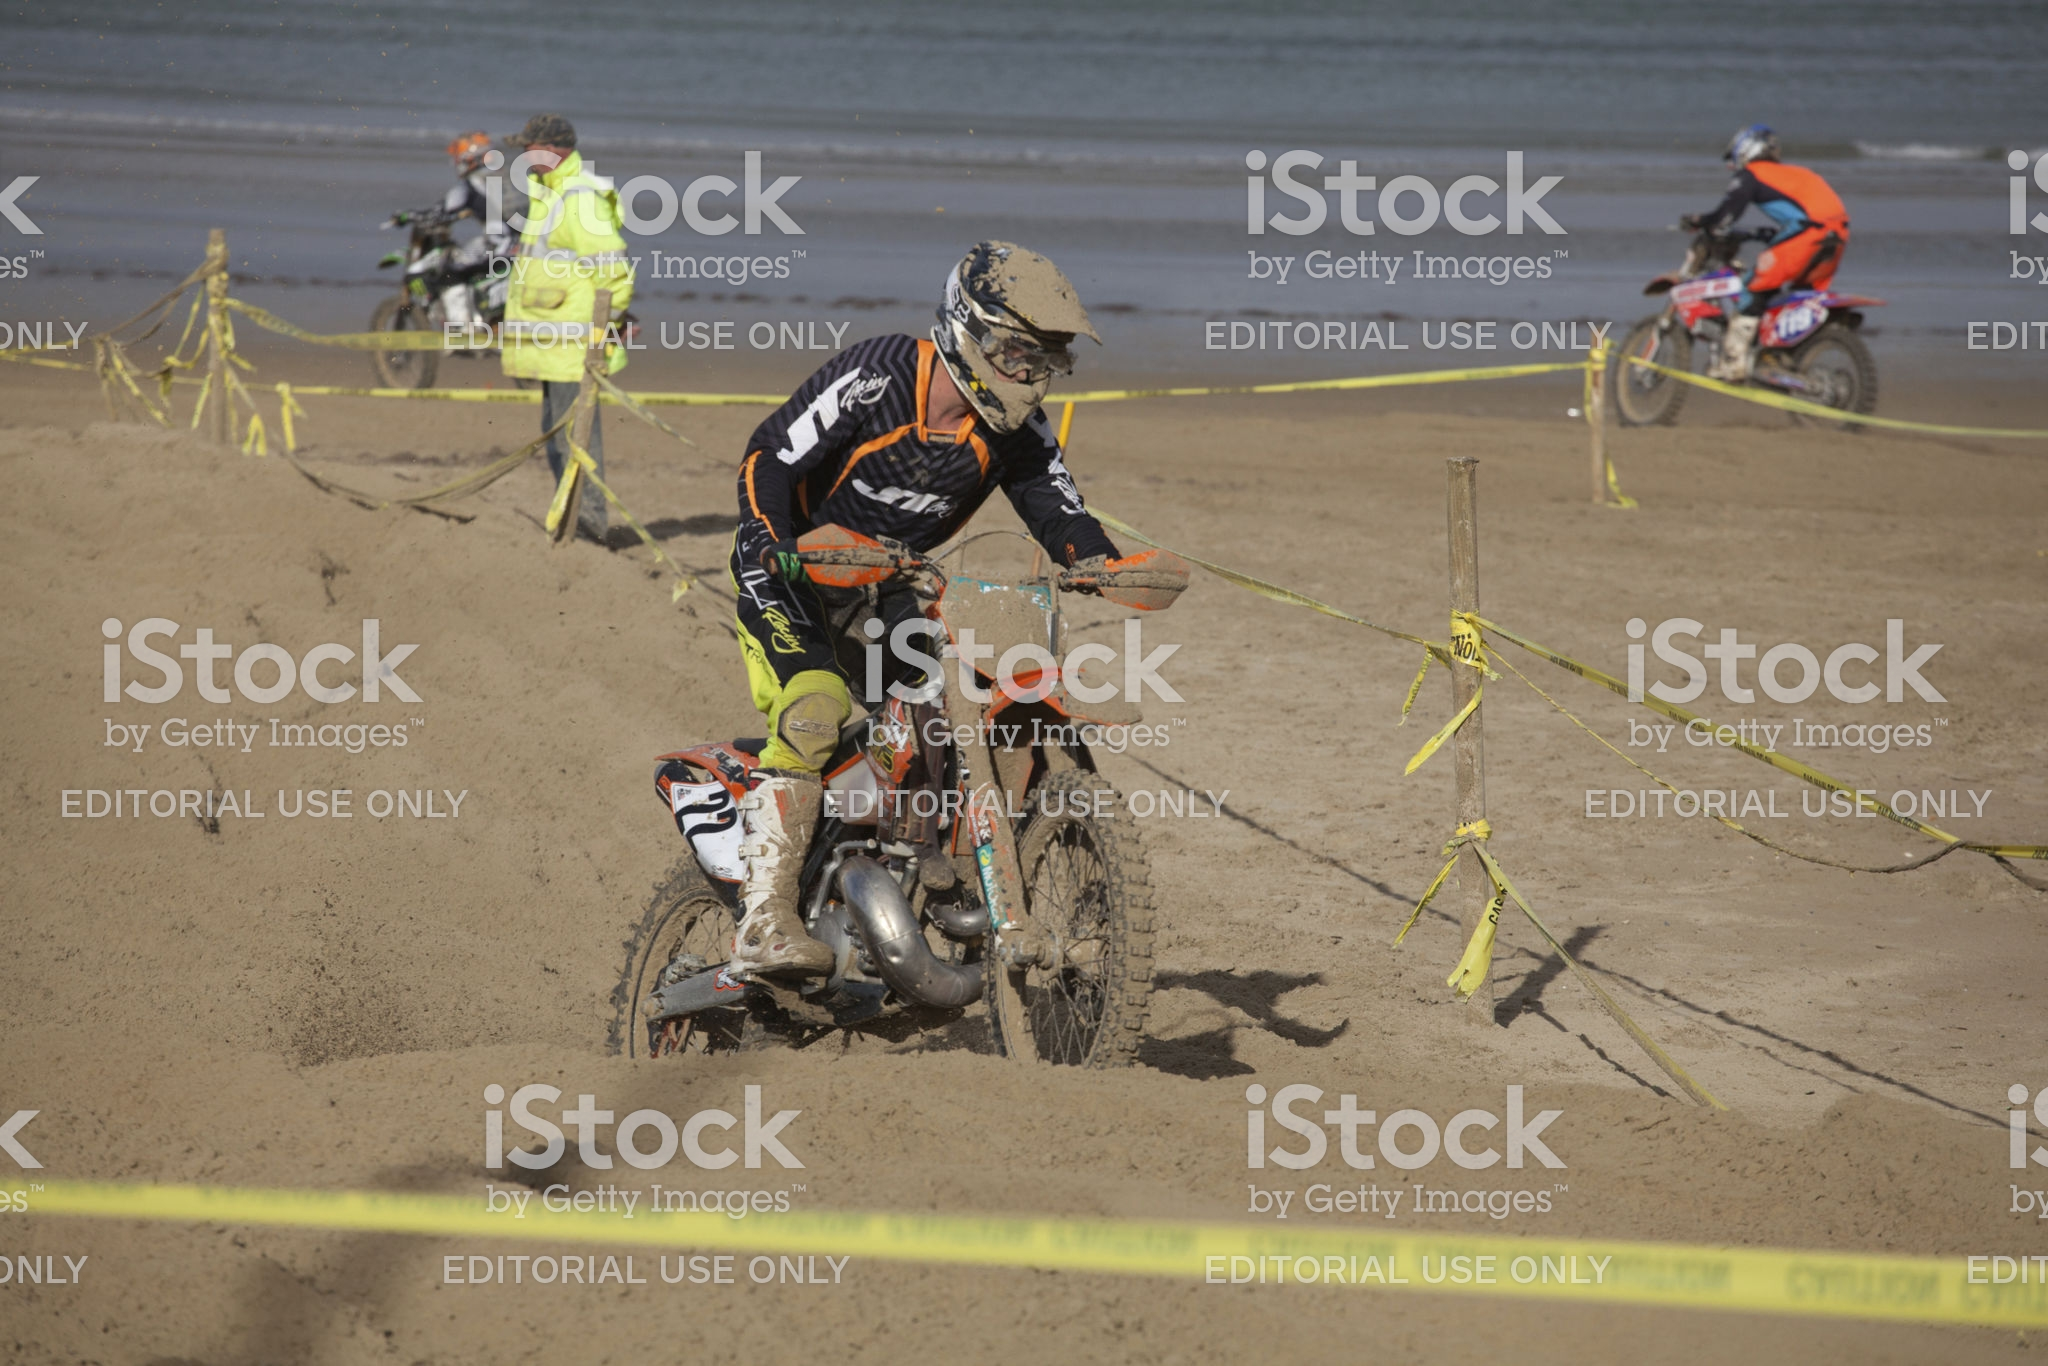helmet: (936, 244, 1070, 451)
